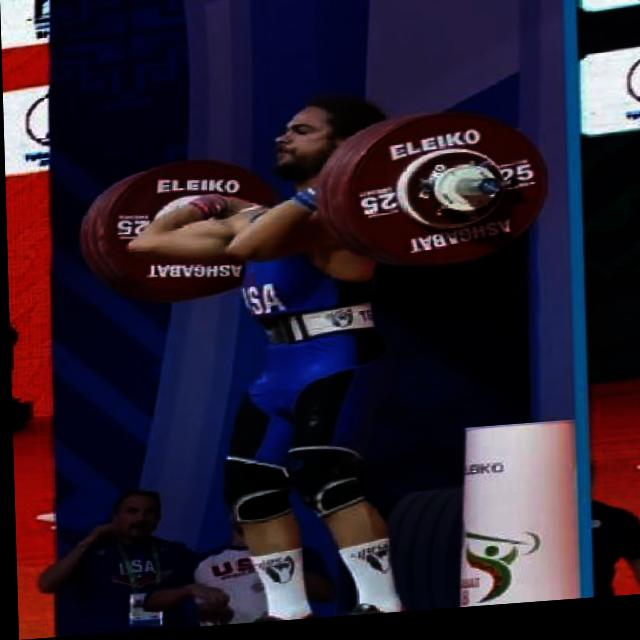barbell: (341, 111, 556, 287)
